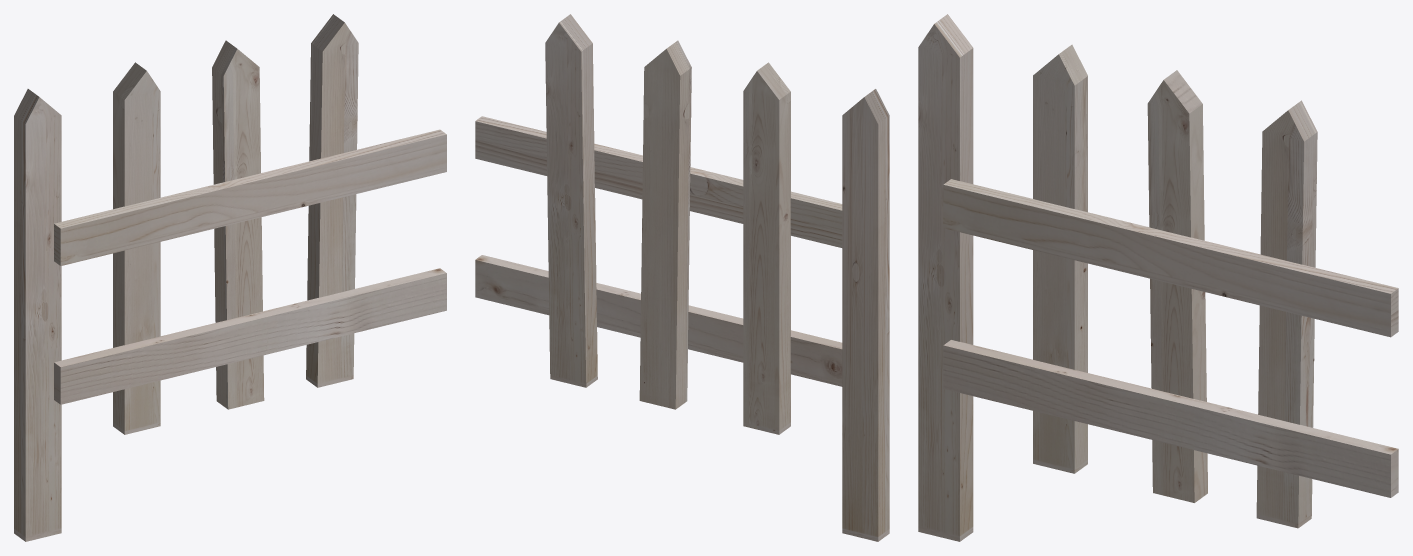
The model's file is GardenFenceInverse1B.fbx.
3 renders of one model, left to right at view 1: azimuth 30°, elevation 25°; view 2: azimuth 150°, elevation 25°; view 3: azimuth 330°, elevation 25°, orthographic. The views are drawn at different scales.
Visible parts, largest first — view 1: GardenFenceInverse1B; view 2: GardenFenceInverse1B; view 3: GardenFenceInverse1B.
Part boxes in pixels (bbox=[...]): GardenFenceInverse1B: bbox=[14, 14, 446, 541]; GardenFenceInverse1B: bbox=[475, 14, 889, 541]; GardenFenceInverse1B: bbox=[918, 14, 1398, 541].
Bounding box in the file's own units: 105 × 107 × 8.01.
